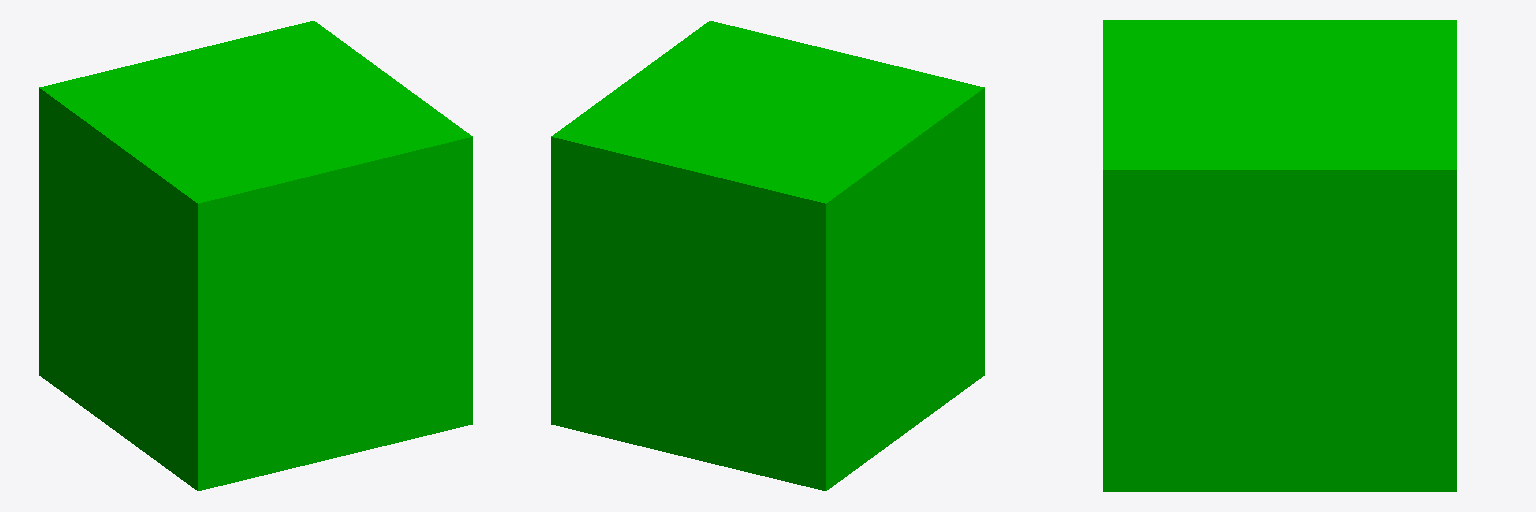
robot.urdf — cube:
<?xml version="1.0"?>

<robot name="cube">

    <material name="green">
        <color rgba="0 0.8 0 1" />
    </material>

    <link name="cube">

        <inertial>
            <origin xyz="0 0 0.1" />
            <mass value="4.0" />
            <inertia ixx="1.0" ixy="0.0" ixz="0.0"
            iyy="1.0" iyz="0.0" izz="1.0" />

        </inertial>
        <visual>        
            <origin xyz="0 0 0.1" />
            <geometry>
                <box size="0.5 0.5 0.5" />
            </geometry>
            <material name="green"/>
        </visual>

        <collision>
            <origin xyz="0 0 0.1" />
            <geometry>
                <box size="0.5 0.5 0.5" />
            </geometry>
        </collision>
    </link>
</robot>

--- Render facts (derived) ---
The picture shows the robot from 3 angles, left to right: view 1: azimuth 30°, elevation 25°; view 2: azimuth 150°, elevation 25°; view 3: azimuth 270°, elevation 25°; orthographic projection.
Robot: cube — 1 links, 0 joints (none); root link cube; default pose: every joint at zero.
Visible links, largest first — view 1: cube; view 2: cube; view 3: cube.
Boxes of the visible links, x1,y1,x2,y2 form: cube: [39, 21, 472, 490]; cube: [551, 21, 984, 490]; cube: [1103, 20, 1456, 491].
Bounding box of the posed robot: 0.5 × 0.5 × 0.5 m (x, y, z).
Geometry: primitives only (box / cylinder / sphere), no mesh files.